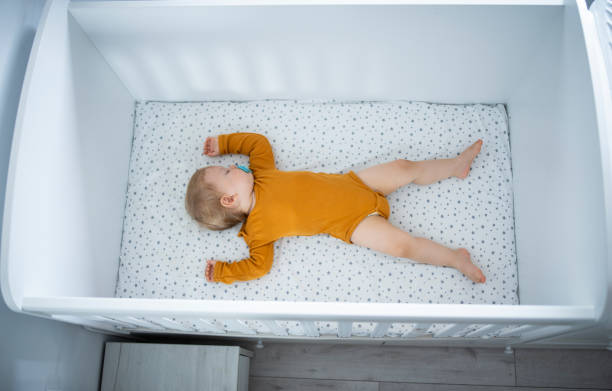baby: (185, 133, 484, 283)
crib: (1, 0, 611, 345)
